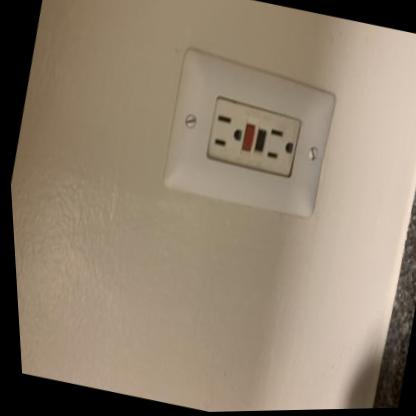OUTLET: (153, 40, 345, 223)
